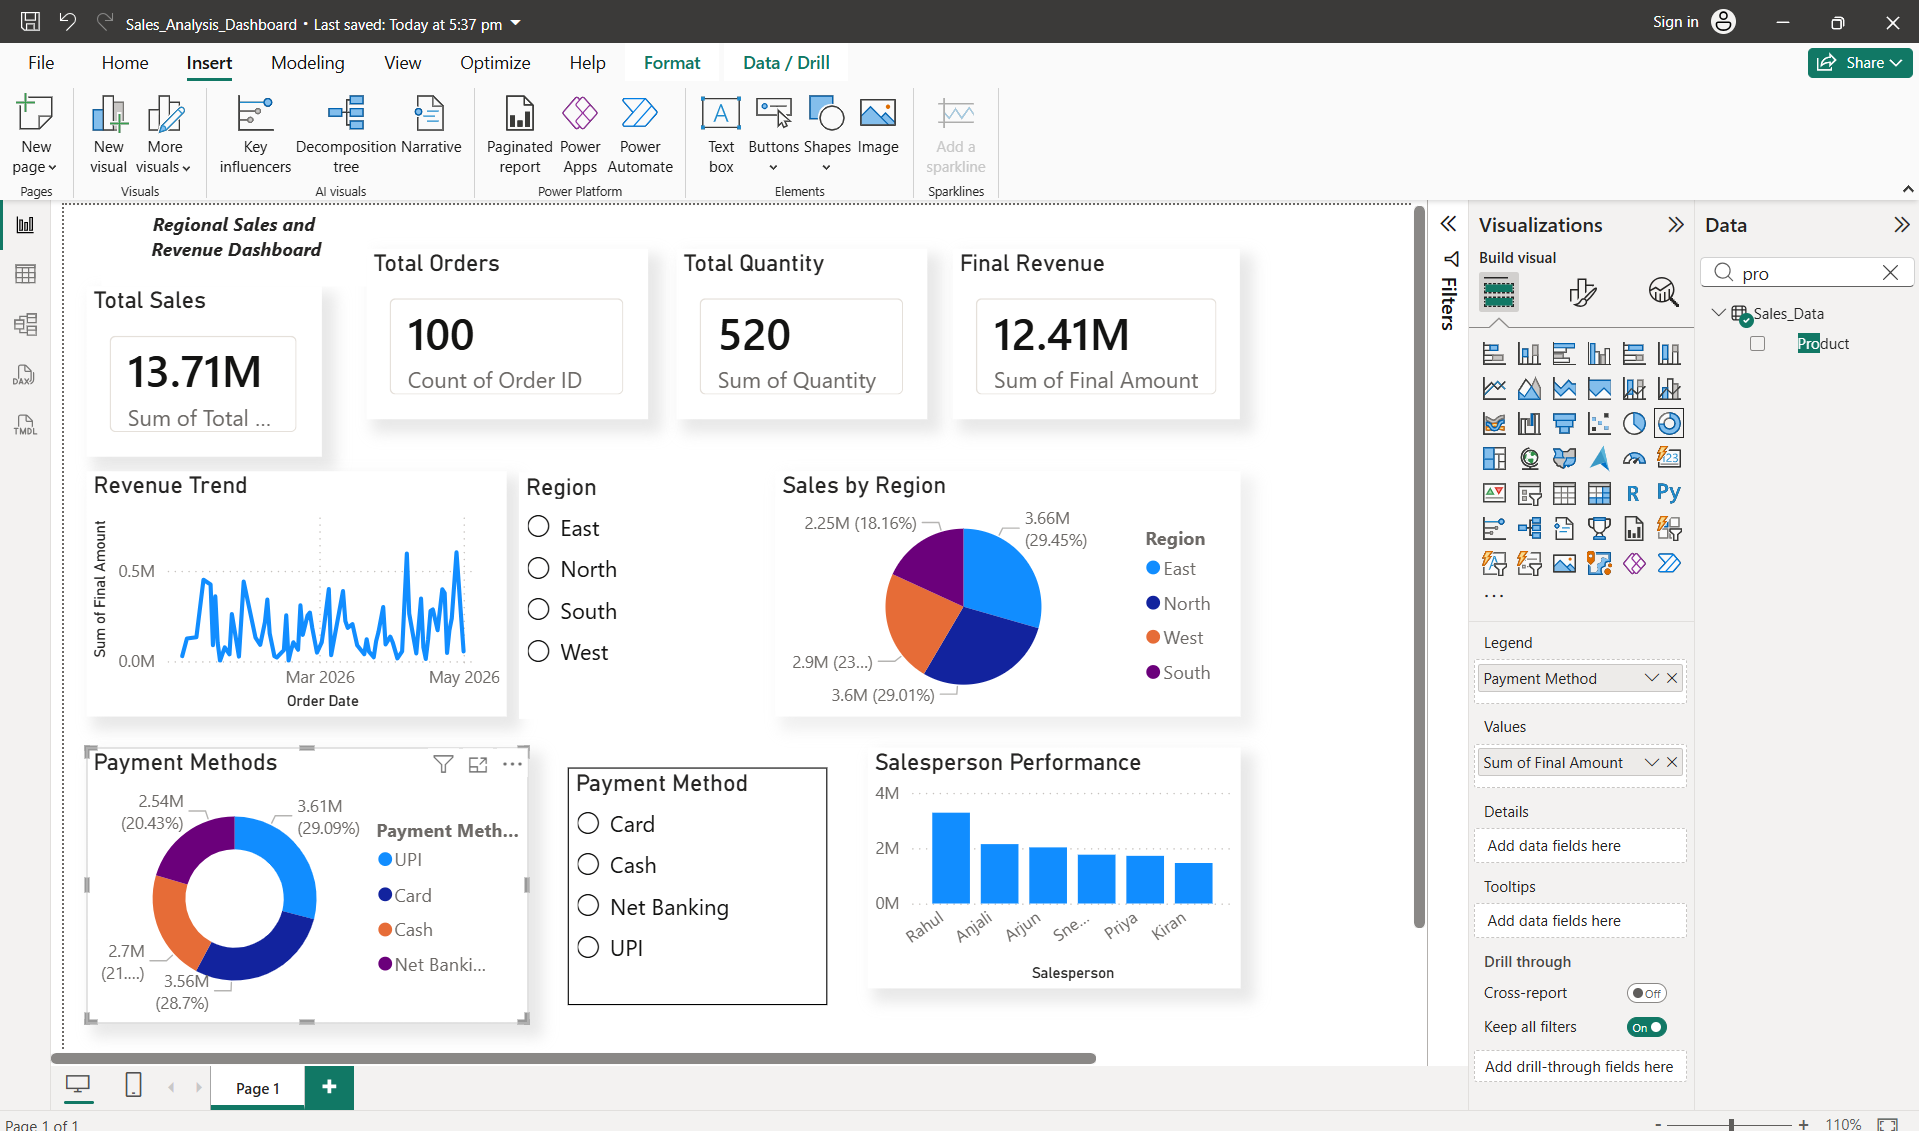

Layout of this report page (visuals, bound fields, positions):
{"tool":"powerbi","page":{"name":"Page 1","canvas":[1280,720],"ordinal":0},"visuals":[{"type":"cardVisual","title":"Total Sales","fields":{"Data":["Sum(Sales_Data.Total Sales)","Sum(Sales_Data.Total Sales)"]},"box":[16.1,59.1,170.8,124.1],"z":0},{"type":"cardVisual","title":"Total Quantity","fields":{"Data":["Sum(Sales_Data.Quantity)"]},"box":[445.5,31.8,182.7,123.6],"z":1000},{"type":"cardVisual","title":"Total Orders","fields":{"Data":["CountNonNull(Sales_Data.Order ID)"]},"box":[220,31.8,204.5,123.6],"z":2000},{"type":"cardVisual","title":"Final Revenue","fields":{"Data":["Sum(Sales_Data.Final Amount)"]},"box":[646.4,31.8,209.1,123.6],"z":3000},{"type":"lineChart","title":"Revenue Trend","fields":{"Category":["Sales_Data.Order Date"],"Y":["Sum(Sales_Data.Final Amount)"]},"box":[16.4,193.6,305.5,178.2],"z":4000},{"type":"pieChart","title":"Sales by Region","fields":{"Category":["Sales_Data.Region"],"Y":["Sum(Sales_Data.Final Amount)"]},"box":[517.3,193.6,338.2,178.2],"z":5000},{"type":"donutChart","title":"Payment Methods","fields":{"Category":["Sales_Data.Payment Method"],"Y":["Sum(Sales_Data.Final Amount)"]},"box":[16.4,394.5,321.8,200.9],"z":6000},{"type":"listSlicer","fields":{"Values":["Sales_Data.Payment Method"]},"box":[365.9,408.8,189,172.5],"z":7000},{"type":"listSlicer","fields":{"Values":["Sales_Data.Region"]},"box":[330.7,194.2,177.4,178.8],"z":8000},{"type":"textbox","box":[27.3,0,192.7,59.1],"z":9000},{"type":"clusteredColumnChart","title":"Salesperson Performance","fields":{"Category":["Sales_Data.Salesperson"],"Y":["Sum(Sales_Data.Final Amount)"]},"box":[584.5,394.5,270.9,175.5],"z":10000}]}

Visuals, with their boxes on the page's 1280x720 design canvas (x1, y1, x2, y2). These are canvas units, not pixel positions in the 1919x1131 screenshot, which may show the page scaled, cropped or inside an application window:
"Total Sales" cardVisual: 16, 59, 187, 183
"Total Quantity" cardVisual: 446, 32, 628, 155
"Total Orders" cardVisual: 220, 32, 424, 155
"Final Revenue" cardVisual: 646, 32, 856, 155
"Revenue Trend" lineChart: 16, 194, 322, 372
"Sales by Region" pieChart: 517, 194, 856, 372
"Payment Methods" donutChart: 16, 394, 338, 595
listSlicer - Sales_Data.Payment Method: 366, 409, 555, 581
listSlicer - Sales_Data.Region: 331, 194, 508, 373
textbox: 27, 0, 220, 59
"Salesperson Performance" clusteredColumnChart: 584, 394, 855, 570
